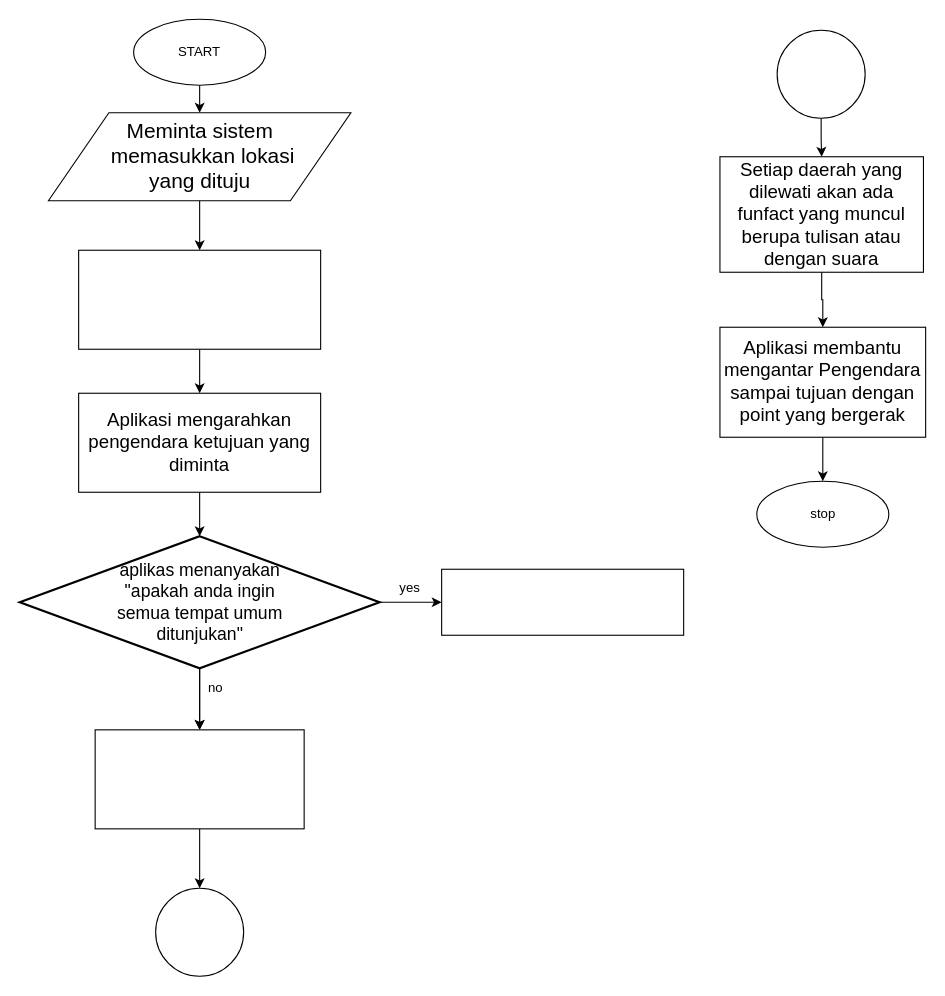
The diagram is 945 pixels wide and 996 high, and some of its shapes have lost their labels. The shapes that lost their labels are listed below. From the top down, each one's box as (x1, y1, x2, y2) in pixels, then its label:
(78, 249, 321, 349): Pengendara mencari lokasi yang ingin di tuju
(441, 568, 684, 635): Aplikasi menunjukkan semua tempat umum
(94, 729, 304, 829): Aplikasi Hanya menunjukan tempat umum yang di minta pengendara
